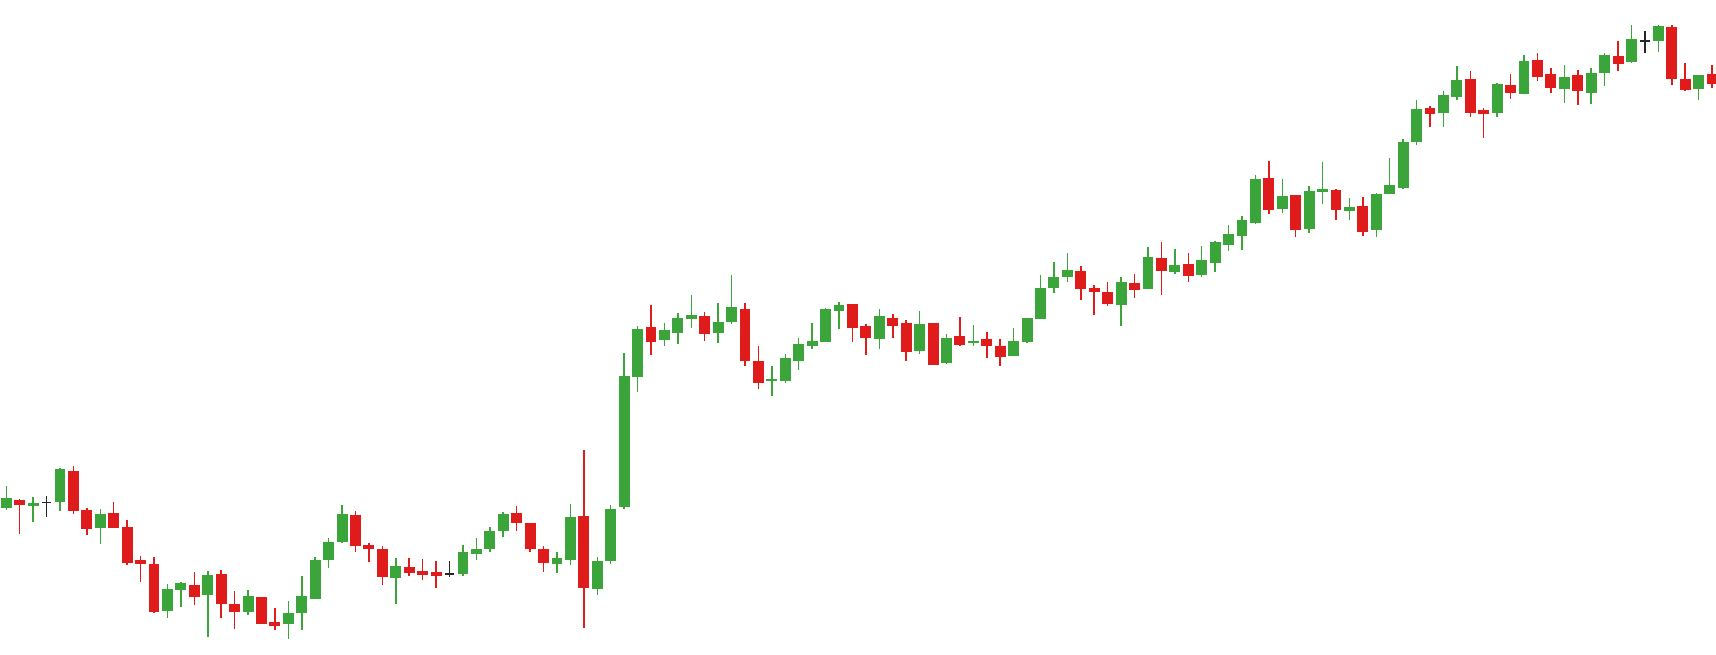buy: (460, 531, 605, 628)
